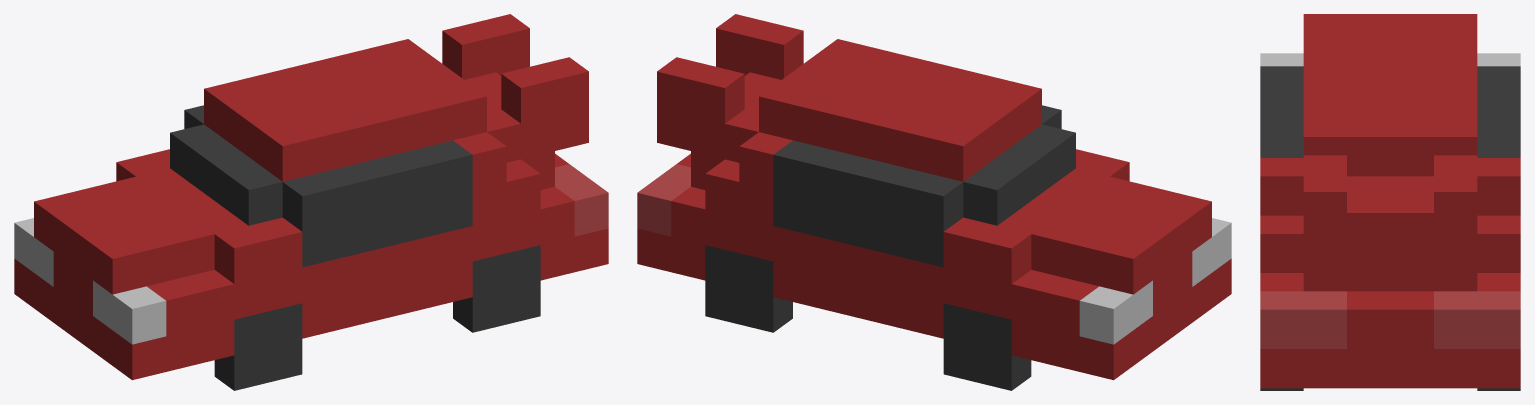
Rendered from racer-v5-red.gltf.
The picture shows the model from 3 angles, left to right: view 1: azimuth 30°, elevation 25°; view 2: azimuth 150°, elevation 25°; view 3: azimuth 270°, elevation 25°; orthographic projection. The views are drawn at different scales.
Parts seen in each view (by area): view 1: model, wheels; view 2: model, wheels; view 3: model, wheels.
Part boxes in pixels (<box>): model: <box>14,14,608,380</box>; wheels: <box>214,245,540,390</box>; model: <box>637,14,1231,380</box>; wheels: <box>705,245,1031,390</box>; model: <box>1260,14,1520,388</box>; wheels: <box>1260,388,1520,390</box>.
Bounding box in the file's own units: 1.4 × 0.6 × 0.6.
Materials: 2 (2 with a texture image).
